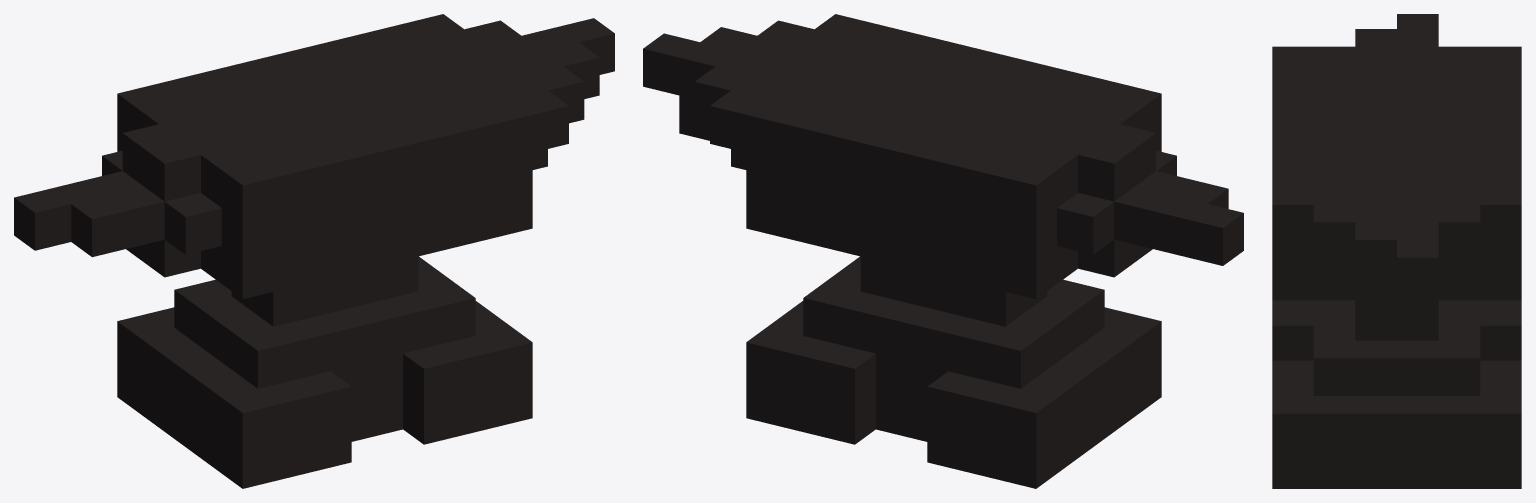
The model's file is Anvil.fbx.
3 renders of one model, left to right at view 1: azimuth 30°, elevation 25°; view 2: azimuth 150°, elevation 25°; view 3: azimuth 270°, elevation 25°, orthographic.
Parts seen in each view (by area): view 1: Untitled; view 2: Untitled; view 3: Untitled.
Part boxes in pixels (x1,y1,x2,y2): Untitled: (14,14,614,488); Untitled: (643,14,1243,488); Untitled: (1272,14,1521,488).
Bounding box in the file's own units: 160 × 80 × 60.
